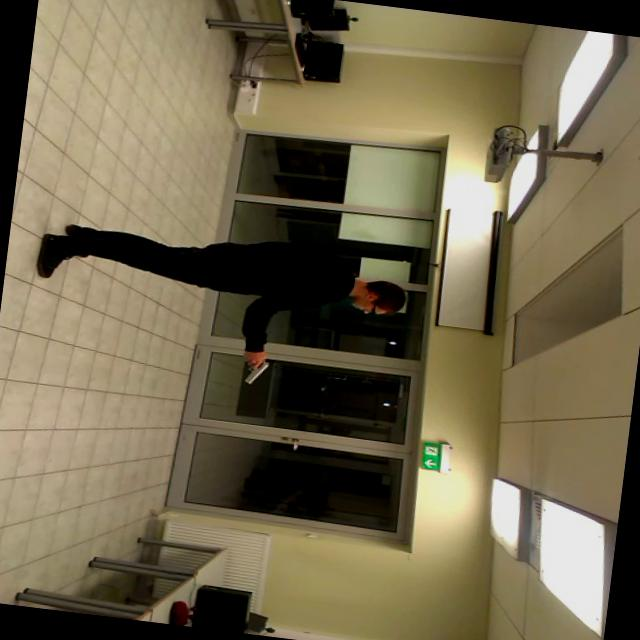handgun: (236, 352, 278, 390)
